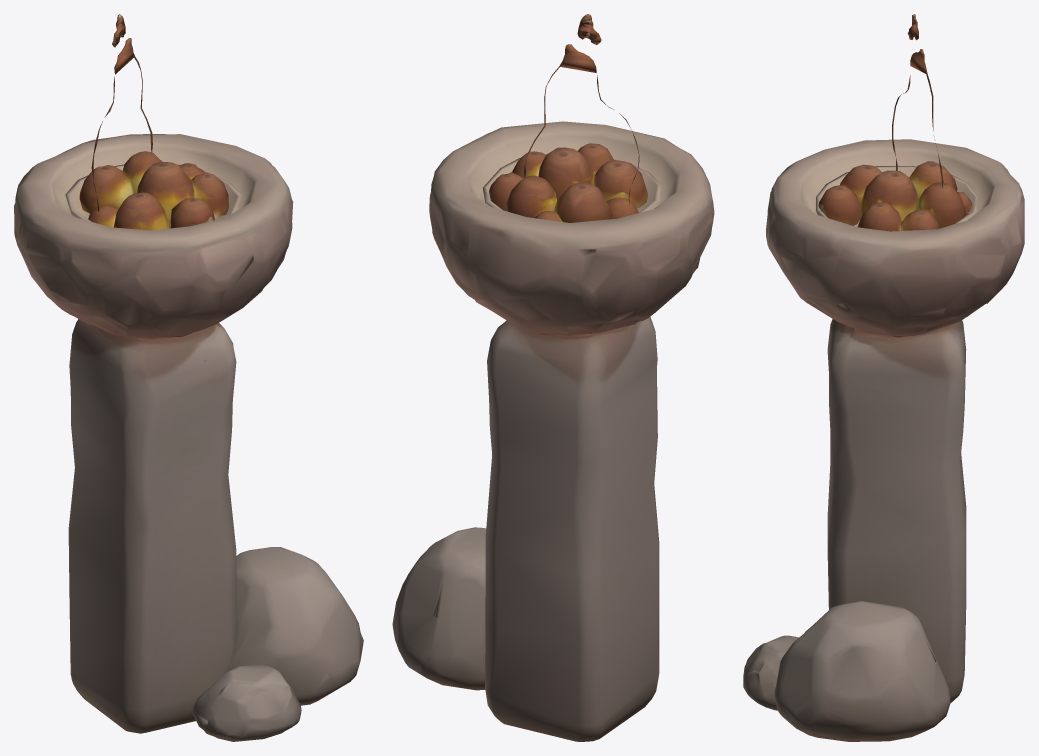
File: stone-torch.glb
3 views of the same model, side by side, from view 1: azimuth 30°, elevation 25°; view 2: azimuth 150°, elevation 25°; view 3: azimuth 270°, elevation 25° (orthographic). The views are drawn at different scales.
Visible parts, largest first — view 1: Stone Torch; view 2: Stone Torch; view 3: Stone Torch.
Part boxes in pixels (<box>): Stone Torch: <box>14,14,363,741</box>; Stone Torch: <box>392,14,714,741</box>; Stone Torch: <box>743,14,1024,741</box>.
Bounding box in the file's own units: 0.4473 × 0.998 × 0.3848.
1 material, 1 textured.
